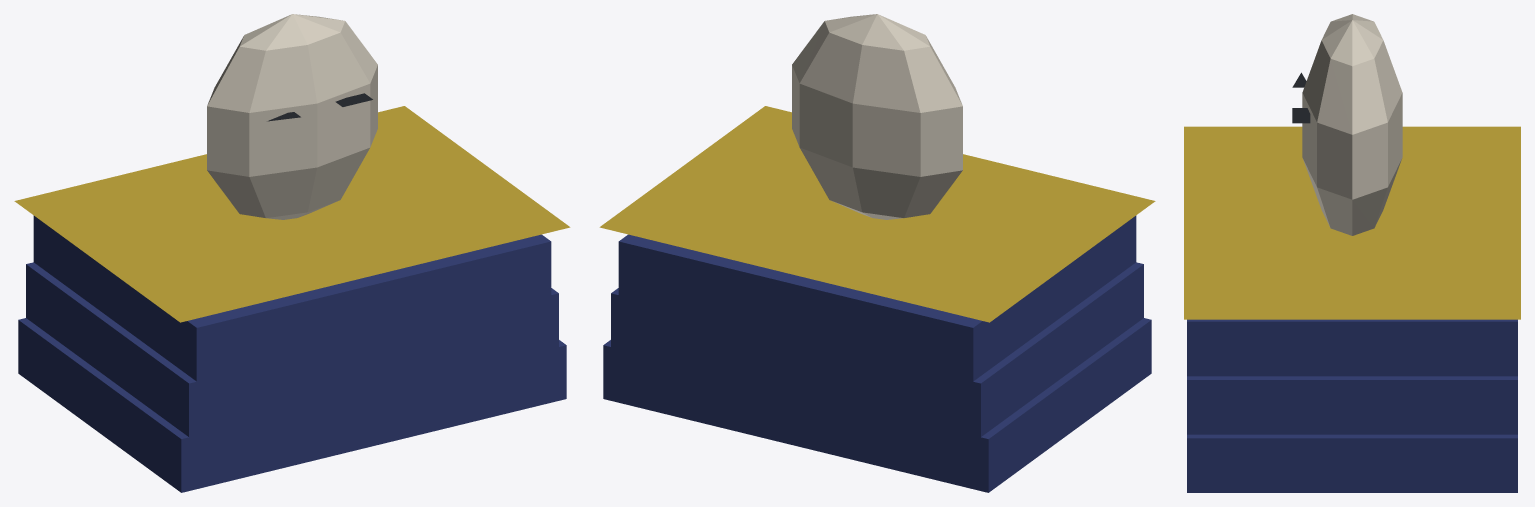
File: clothes-costume.lod.glb
The picture shows the model from 3 angles, left to right: view 1: azimuth 30°, elevation 25°; view 2: azimuth 150°, elevation 25°; view 3: azimuth 270°, elevation 25°; orthographic projection.
Parts seen in each view (by area): view 1: m; view 2: m; view 3: m.
Part boxes in pixels (x1,y1,x2,y2): m: [14, 14, 570, 492]; m: [599, 14, 1155, 492]; m: [1184, 14, 1520, 492].
Bounding box in the file's own units: 0.15 × 0.1367 × 0.1105.
